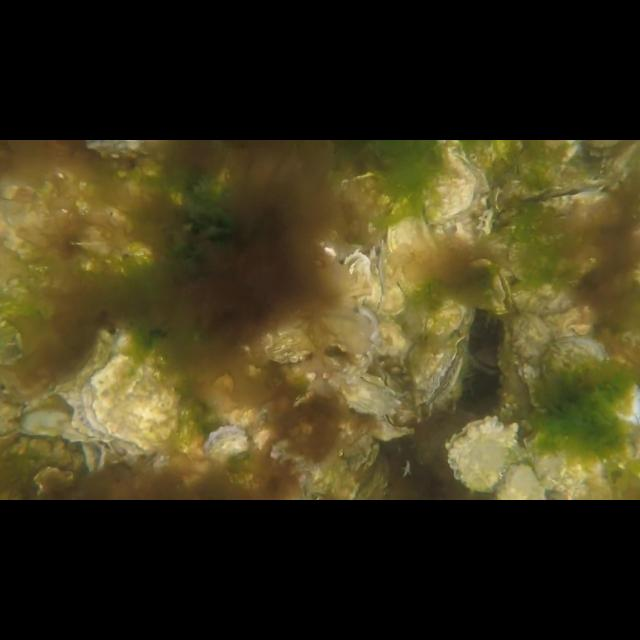Oyster-Closed: (540, 334, 640, 422), (523, 425, 601, 491), (422, 140, 478, 222), (387, 215, 439, 299), (510, 313, 554, 411), (326, 368, 402, 420), (239, 321, 317, 364), (11, 408, 94, 442), (512, 280, 576, 314), (376, 246, 406, 316), (493, 462, 547, 500)
Oyster-Open: (82, 352, 180, 453), (446, 416, 520, 494), (515, 177, 615, 220), (410, 332, 466, 403), (429, 292, 475, 340), (364, 237, 392, 311), (345, 432, 381, 478), (204, 422, 248, 458), (370, 412, 416, 441), (342, 250, 372, 294), (466, 345, 502, 377), (490, 271, 514, 317), (79, 439, 107, 477), (474, 205, 496, 237)
